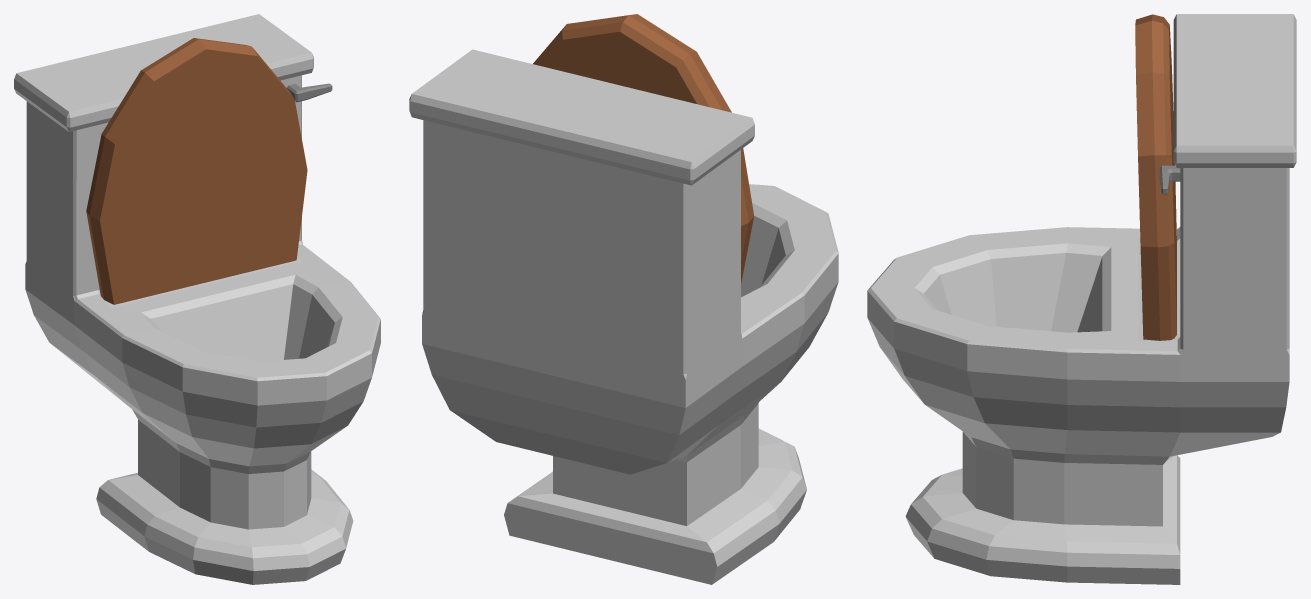
File: Toilet.glb
3 views of the same model, side by side, from view 1: azimuth 30°, elevation 25°; view 2: azimuth 150°, elevation 25°; view 3: azimuth 270°, elevation 25° (orthographic). The views are drawn at different scales.
Parts seen in each view (by area): view 1: Toilet; view 2: Toilet; view 3: Toilet.
Part boxes in pixels (x1,y1,x2,y2): Toilet: [14, 14, 380, 584]; Toilet: [409, 14, 838, 584]; Toilet: [867, 14, 1296, 584].
Bounding box in the file's own units: 296 × 507 × 383.
